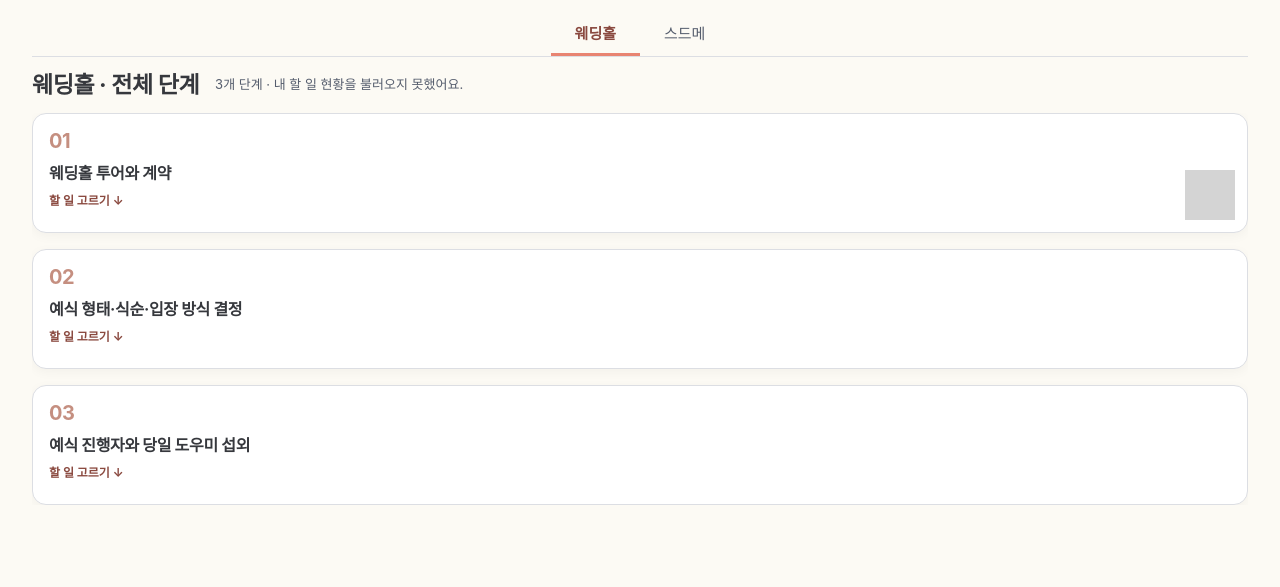
Test: AllPreparationStepsFeature 로그인 체크리스트 추가 › 추가 실패 시 화면을 유지하고 같은 동작을 다시 시도한다
This screenshot has width=1280, height=587.
expect the heading "웨딩홀 · 전체 단계" is shown: met, box [32, 69, 199, 101]
Click the button "01 웨딩홀 투어와 계약 할 일 고르기 ↓".
click(110, 173)  # box [32, 113, 1248, 233]
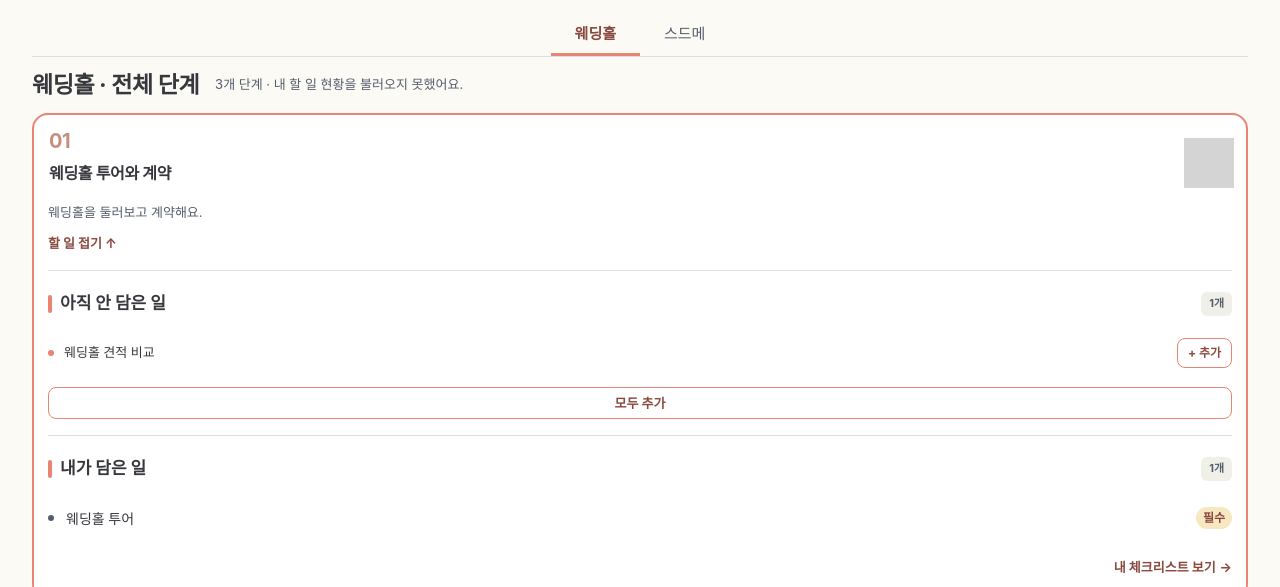
Click the button with aria-label "웨딩홀 견적 비교 추가".
click(1204, 353)  # box [1177, 338, 1232, 368]
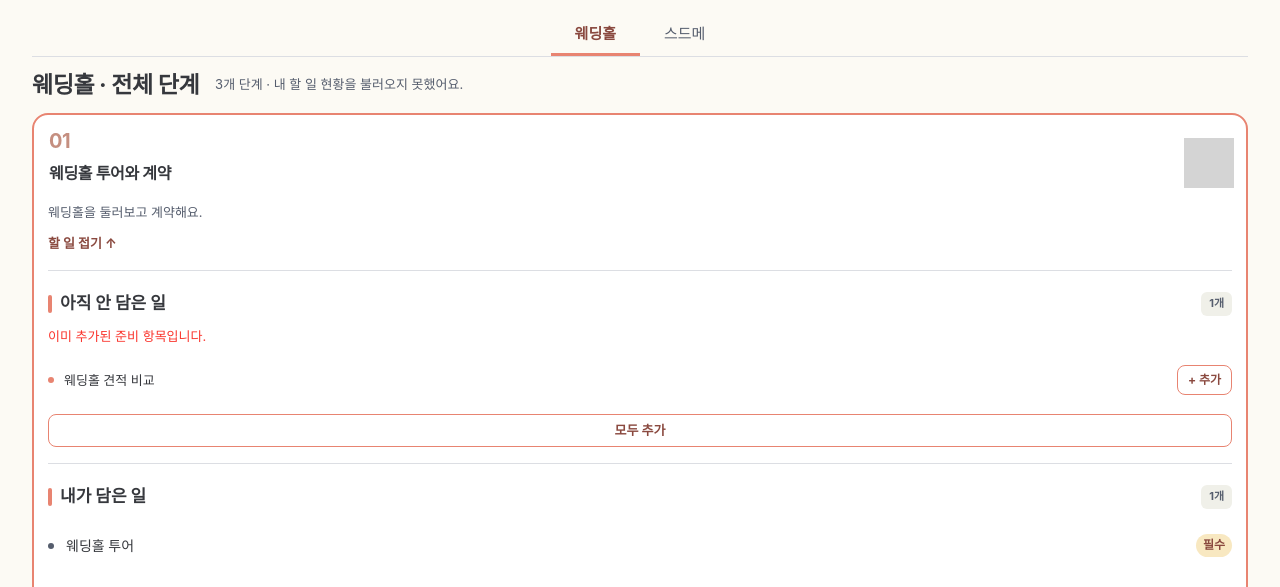
expect the button with aria-label "웨딩홀 견적 비교 추가" is enabled: met
expect the message reads "이미 추가된 준비 항목입니다.": met, box [48, 328, 206, 344]
Click the button with aria-label "웨딩홀 견적 비교 추가".
click(1204, 380)  # box [1177, 365, 1232, 395]
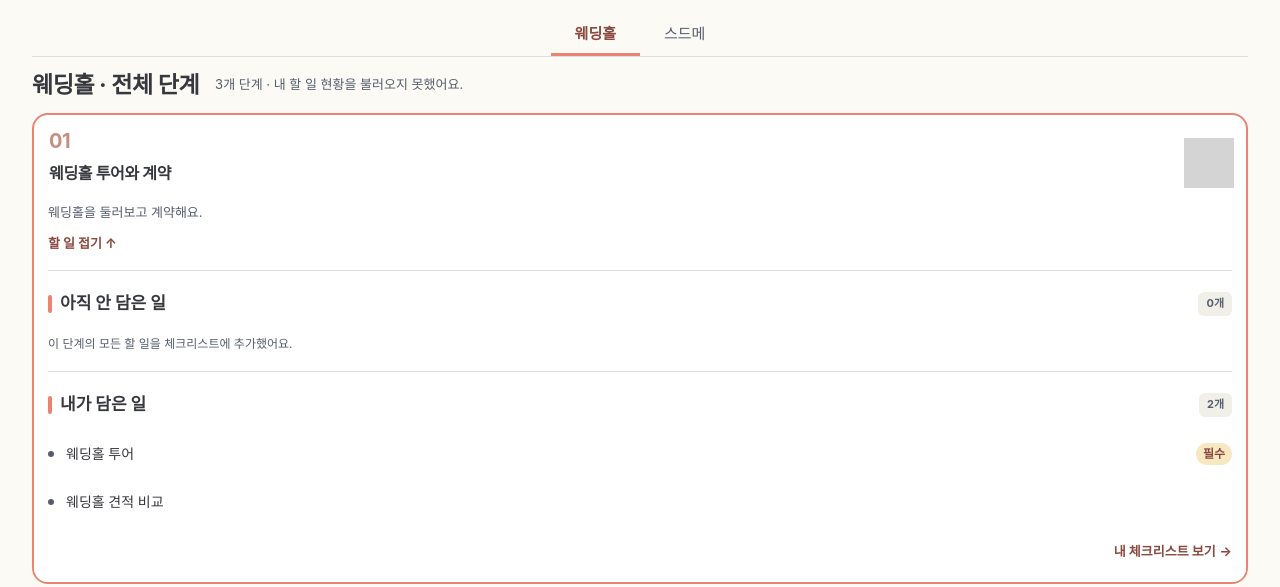
expect the message "이미 추가된 준비 항목입니다." is gone: met
